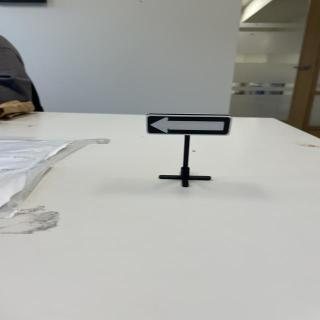sign_oneway_left: (146, 114, 234, 137)
